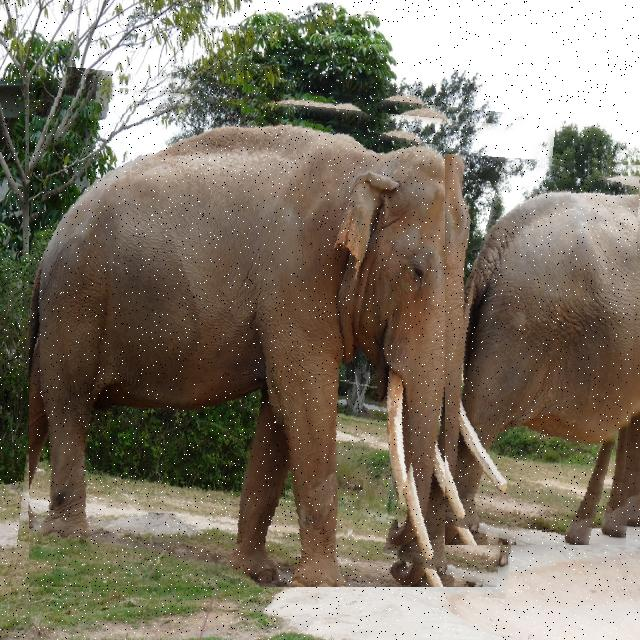elephant: (29, 79, 544, 587), (445, 154, 640, 545)
